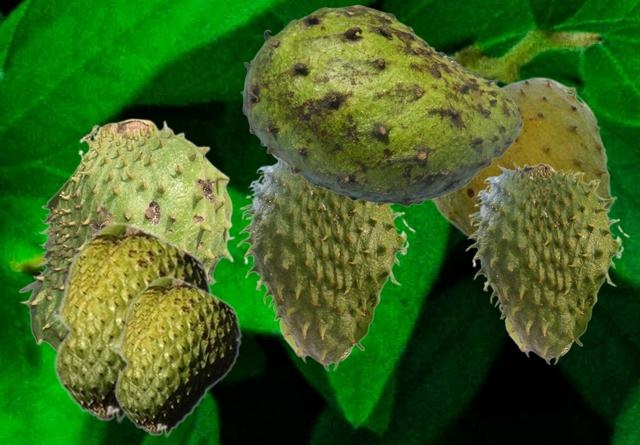guyabano: (240, 4, 522, 206), (18, 118, 234, 351), (236, 154, 415, 370), (465, 162, 629, 364), (51, 221, 212, 423), (430, 76, 614, 241), (112, 275, 241, 437)
